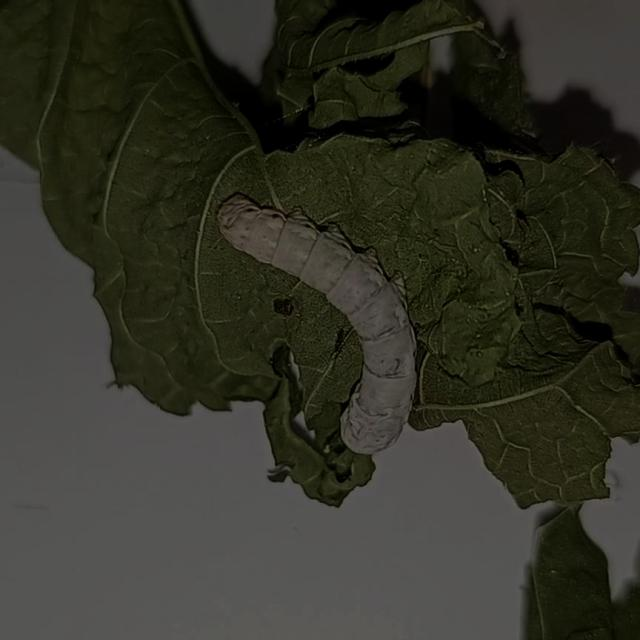Healthy: (207, 171, 440, 476)
